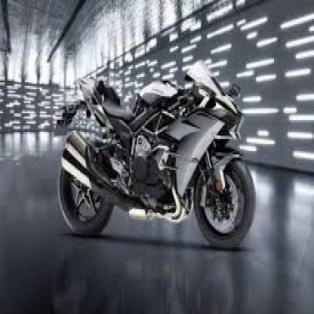Motocicleta: (56, 65, 256, 248)
